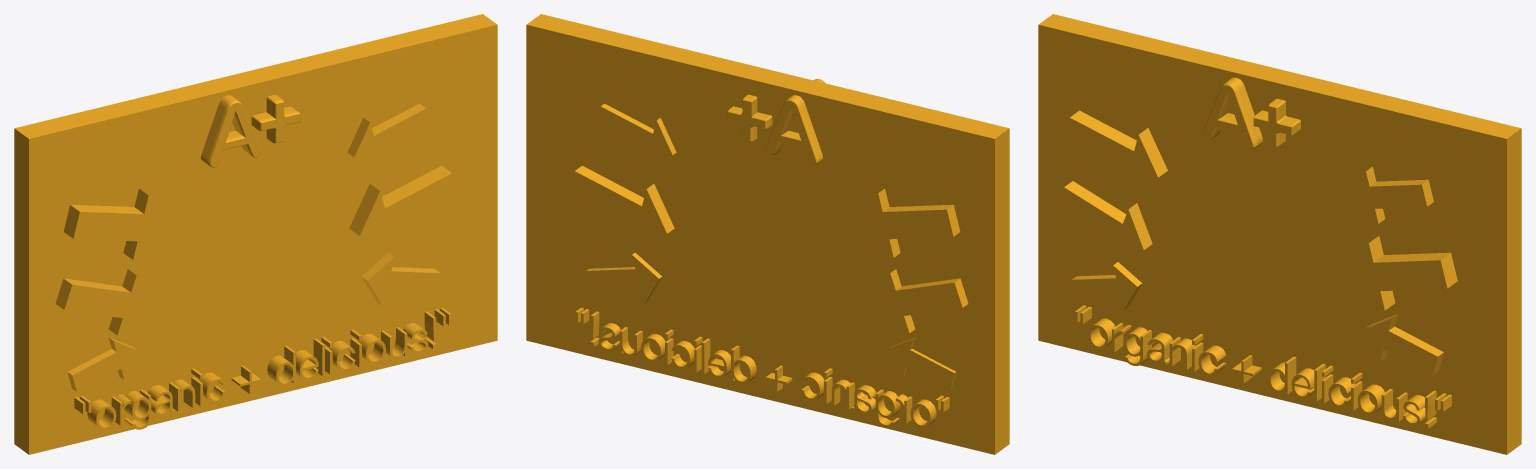
The model's file is grade_Frame02_notTransparent.dae.
3 views of the same model, side by side, from view 1: azimuth 30°, elevation 25°; view 2: azimuth 150°, elevation 25°; view 3: azimuth 330°, elevation 25° (orthographic).
Parts seen in each view (by area): view 1: x; view 2: x; view 3: x.
Boxes of the visible parts, box(x1,y1,x2,y2) form: x: box(14, 14, 497, 454); x: box(526, 14, 1009, 454); x: box(1038, 14, 1521, 454).
Size of the model in its own units: 315 by 38 by 203.
